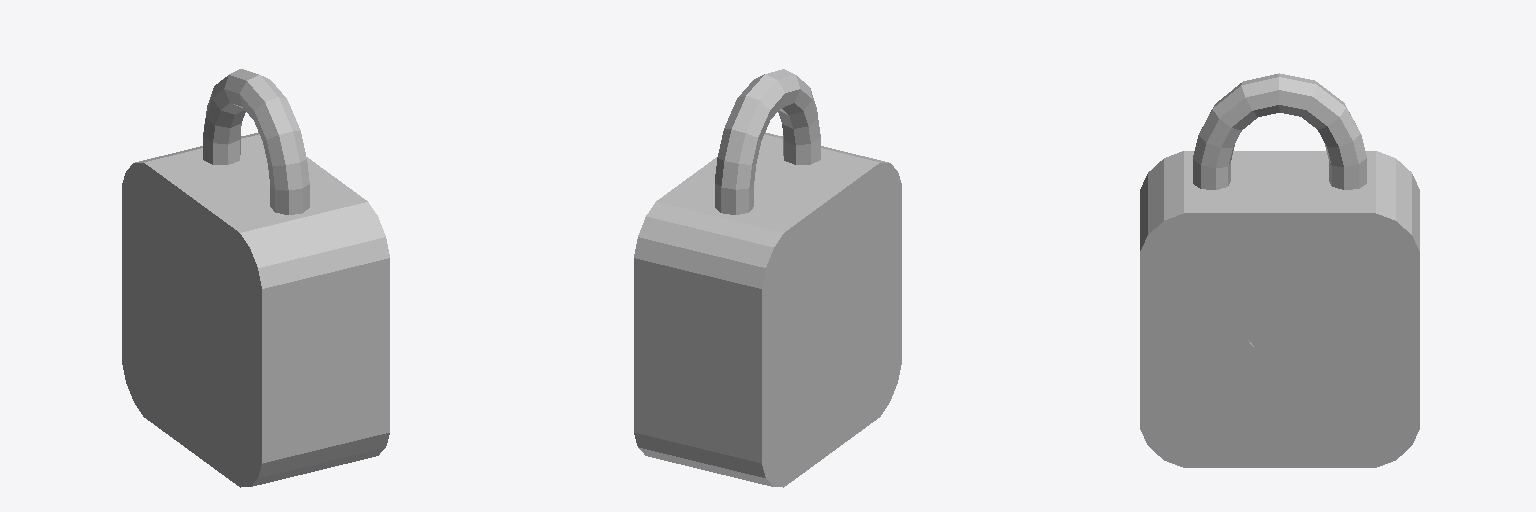
The model's file is lock_lowpoly.obj.
The picture shows the model from 3 angles: view 1: azimuth 30°, elevation 25°; view 2: azimuth 150°, elevation 25°; view 3: azimuth 270°, elevation 25°; orthographic projection.
Visible parts, largest first — view 1: Cylinder.001; view 2: Cylinder.001; view 3: Cylinder.001.
Boxes of the visible parts, <box> form: Cylinder.001: <box>122,69,389,487</box>; Cylinder.001: <box>634,69,901,487</box>; Cylinder.001: <box>1140,73,1419,467</box>.
Bounding box in the file's own units: 1.58 × 4.26 × 3.